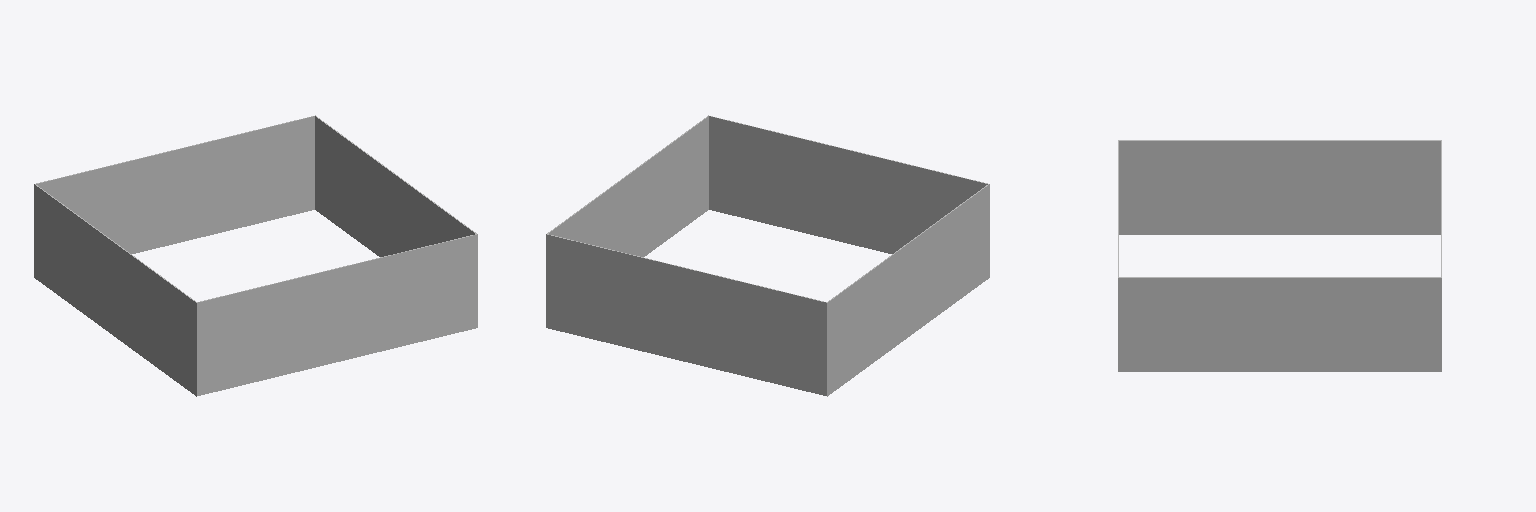
File: TutorialRoom.obj
The picture shows the model from 3 angles: view 1: azimuth 30°, elevation 25°; view 2: azimuth 150°, elevation 25°; view 3: azimuth 270°, elevation 25°; orthographic projection.
Parts seen in each view (by area): view 1: polySurface5; view 2: polySurface5; view 3: polySurface5.
Part boxes in pixels (bbox=[...]): polySurface5: bbox=[34, 115, 477, 396]; polySurface5: bbox=[546, 115, 989, 396]; polySurface5: bbox=[1118, 140, 1441, 371].
Size of the model in its own units: 25.15 by 8 by 25.15.